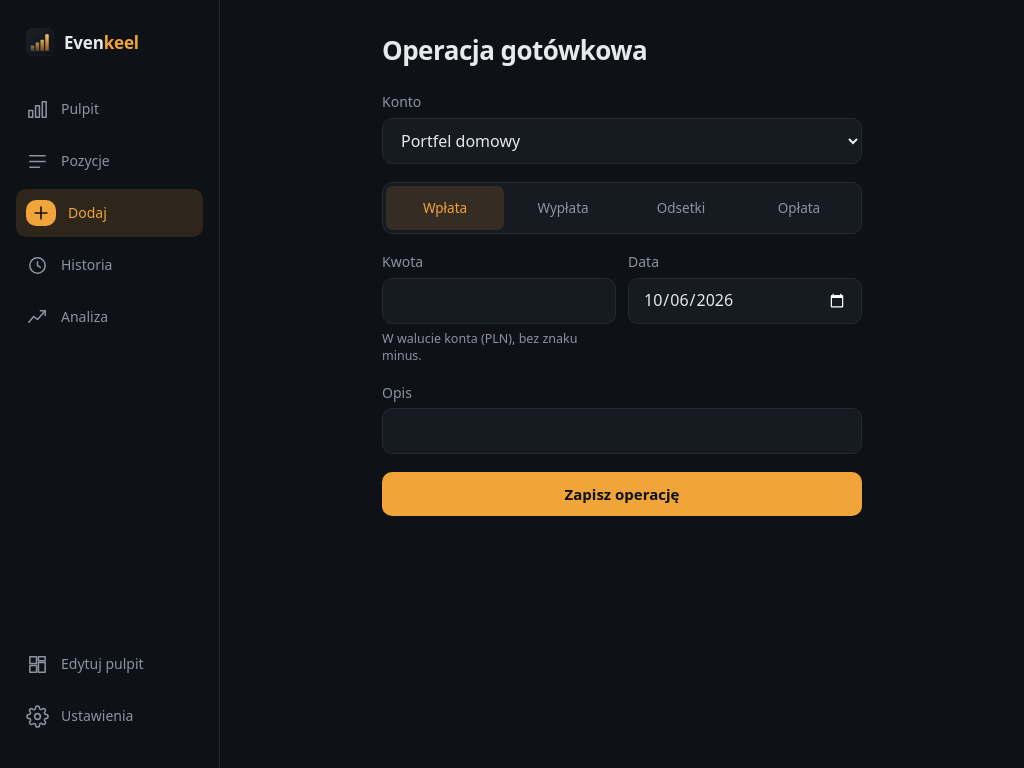
Test: cash operation form › checks the amount before asking the API
The width and height of the screenshot is (1024, 768).
Type "12,345" into the field labelled "Kwota" at (499, 301), box [382,278,616,324]
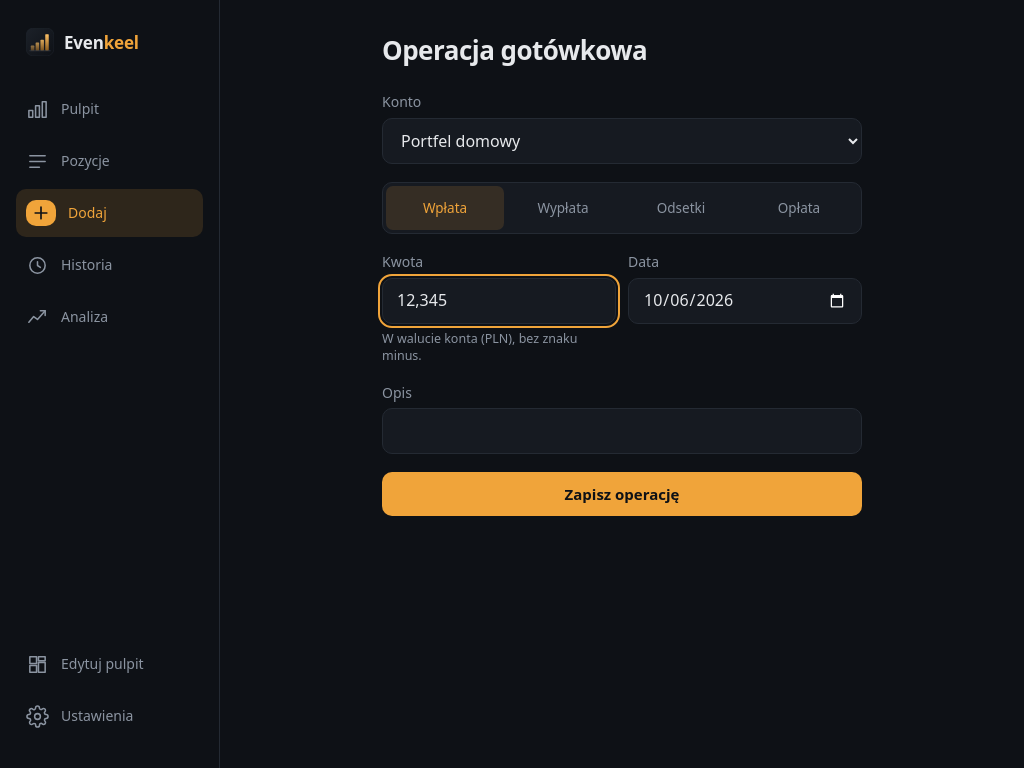
Click the button "Zapisz operację" at (622, 494), box [382,472,862,516]
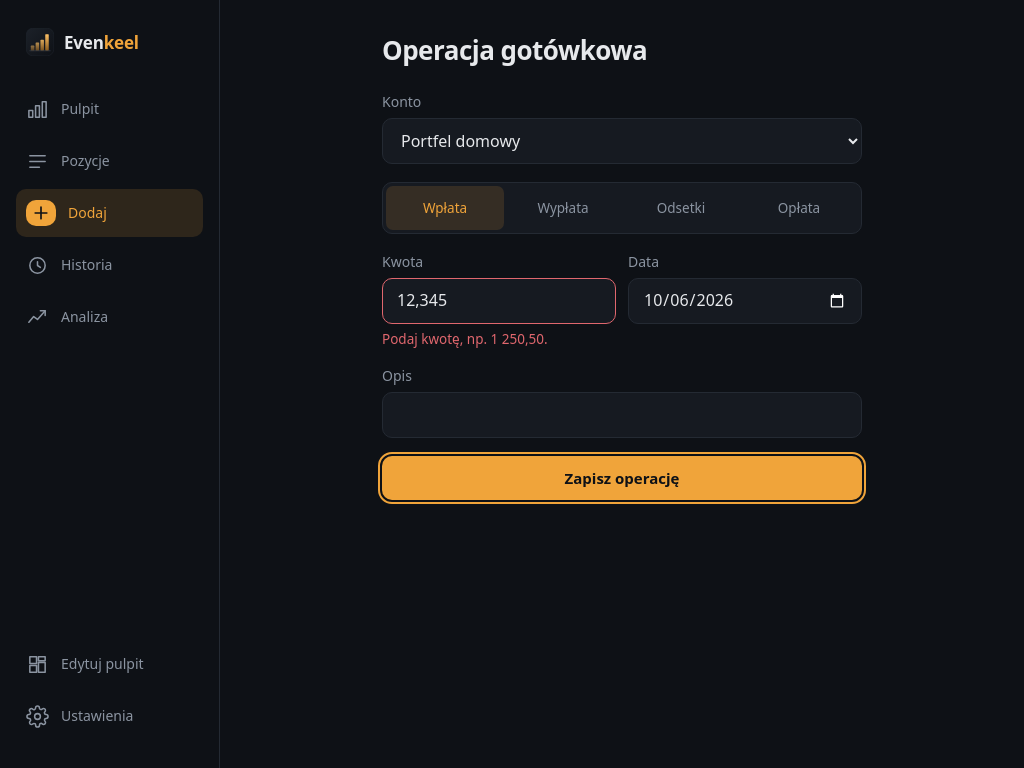
Now the text "Podaj kwotę, np. 1 250,50." is shown, box [382,330,548,348]
